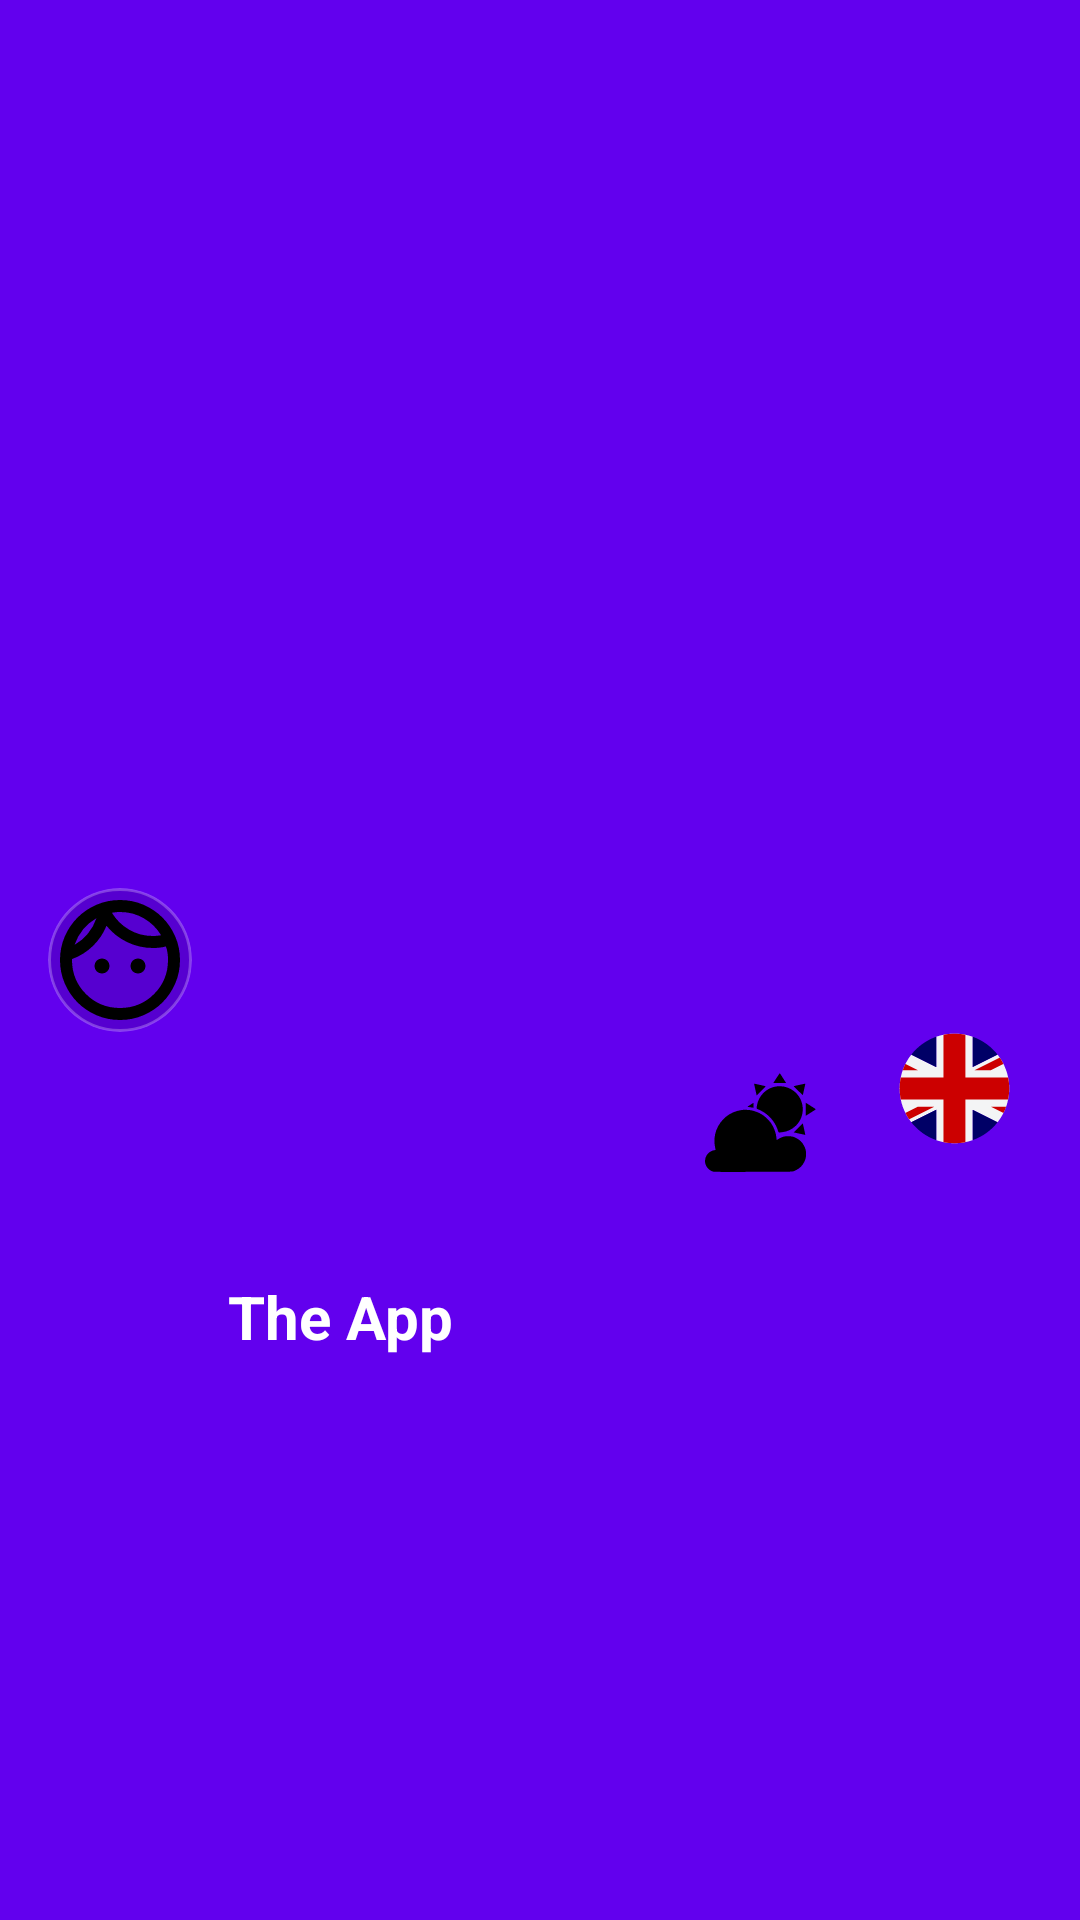

Icon bounding boxes for this 1080×1920 phone screenshot, format (left=x1, top=y1, right=x2, bottom=y2):
Changer la langue: (left=899, top=1033, right=1010, bottom=1144)
day: (left=705, top=1073, right=816, bottom=1172)
face: (left=48, top=888, right=192, bottom=1032)
